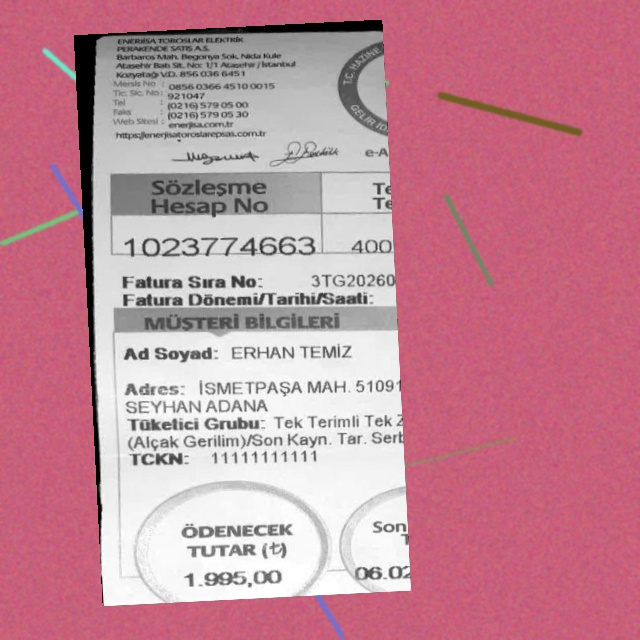electricity-bill: (73, 19, 411, 605)
